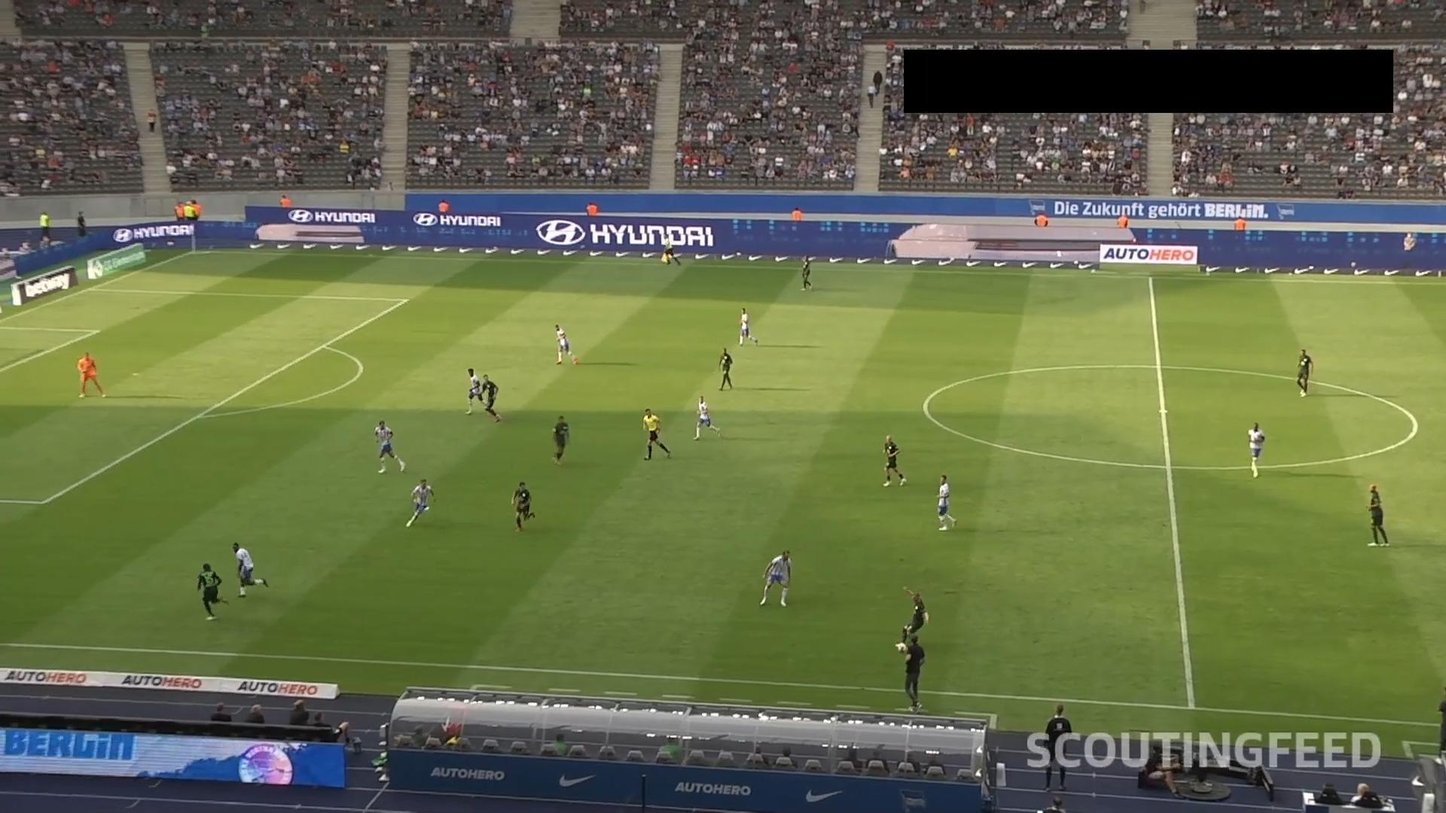ball: (895, 638, 908, 655)
goalkeeper: (76, 350, 106, 401)
player: (890, 585, 931, 656), (229, 540, 270, 604), (194, 562, 228, 625), (761, 547, 794, 610), (372, 420, 409, 476), (1365, 479, 1390, 551), (403, 477, 438, 528), (879, 434, 908, 490), (692, 394, 722, 443), (935, 476, 959, 534), (511, 480, 537, 533), (550, 323, 580, 367), (1244, 421, 1265, 480), (465, 370, 490, 419), (479, 374, 502, 425), (736, 307, 761, 351), (552, 413, 570, 466), (1294, 349, 1313, 399), (715, 346, 734, 393), (801, 254, 813, 295)
referee: (640, 407, 673, 463), (659, 233, 681, 265)
